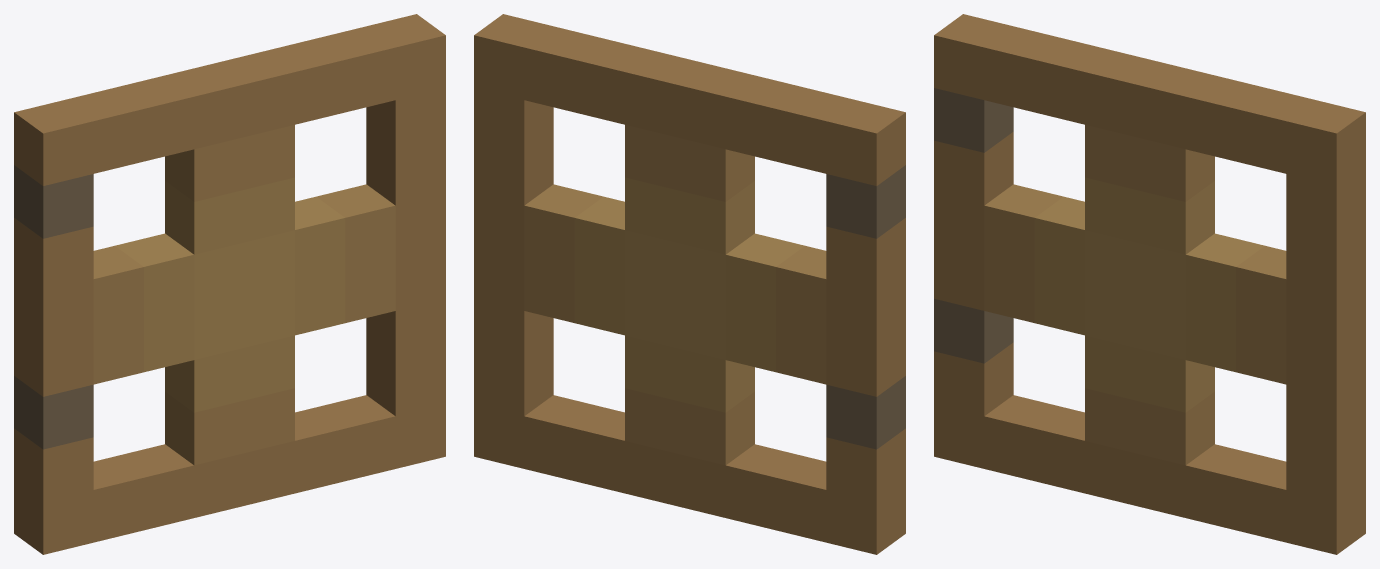
The model's file is _Maple Door Top.glb.
The picture shows the model from 3 angles, left to right: view 1: azimuth 30°, elevation 25°; view 2: azimuth 150°, elevation 25°; view 3: azimuth 330°, elevation 25°; orthographic projection.
Parts seen in each view (by area): view 1: generated(Clone); view 2: generated(Clone); view 3: generated(Clone).
Part boxes in pixels (x1,y1,x2,y2): generated(Clone): (14,14,445,554); generated(Clone): (474,14,905,554); generated(Clone): (934,14,1365,554).
Size of the model in its own units: 8 by 8 by 1.
1 material, 1 textured.
